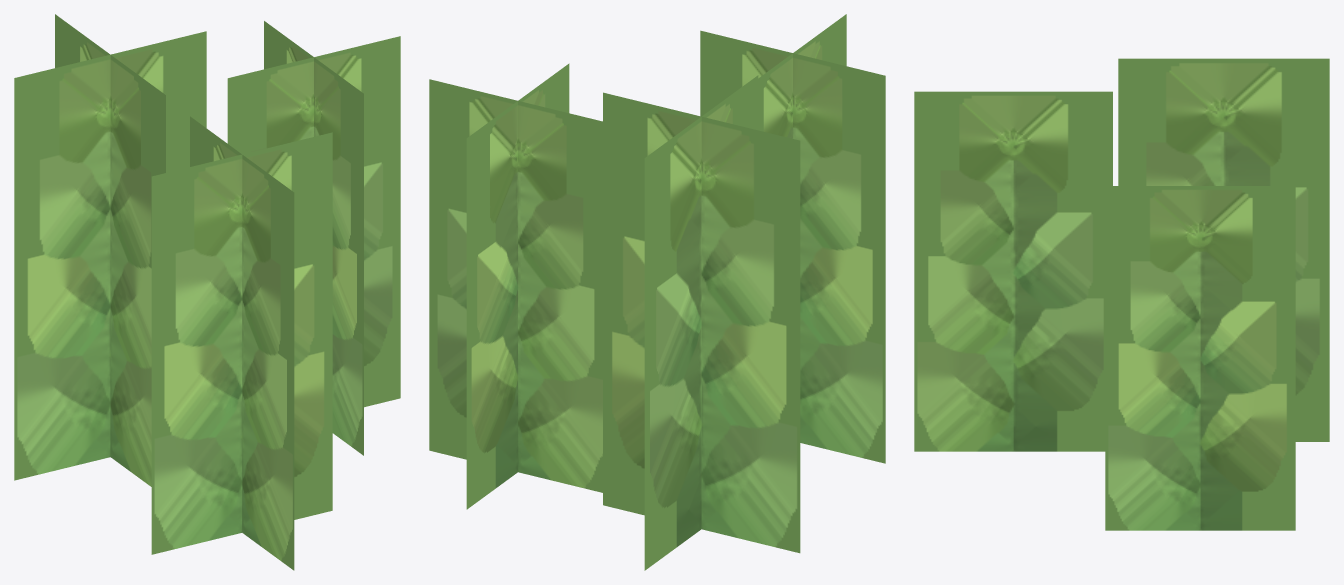
File: crop_sunflower_2.glb
The picture shows the model from 3 angles, left to right: view 1: azimuth 30°, elevation 25°; view 2: azimuth 150°, elevation 25°; view 3: azimuth 270°, elevation 25°; orthographic projection. The views are drawn at different scales.
Visible parts, largest first — view 1: crop_sunflower_2; view 2: crop_sunflower_2; view 3: crop_sunflower_2.
Part boxes in pixels (x1,y1,x2,y2): crop_sunflower_2: (14,14,400,570); crop_sunflower_2: (429,14,885,570); crop_sunflower_2: (914,58,1329,530).
Size of the model in its own units: 0.6222 by 0.64 by 0.6286.
Materials: 1 (1 with a texture image).
